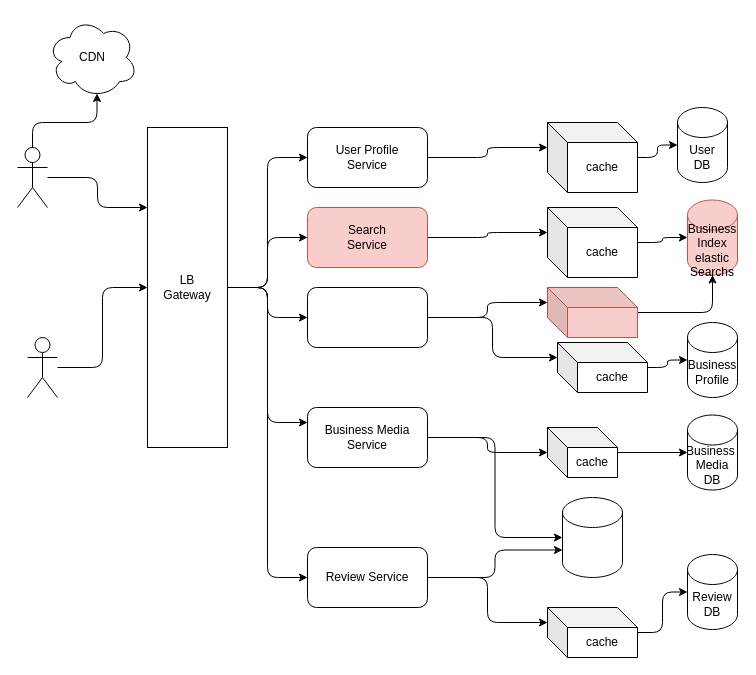
Image size: 756x675. Some labels were removed from this diagram. The shapes that lost their labels are listed below. From the top down, each one's centre as x and y in pixels, then its label:
At pixel 32 177: "User".
At pixel 367 317: "Business Profile Service".
At pixel 592 312: "Indexer".
At pixel 42 367: "business".
At pixel 592 537: "Object Storage".
